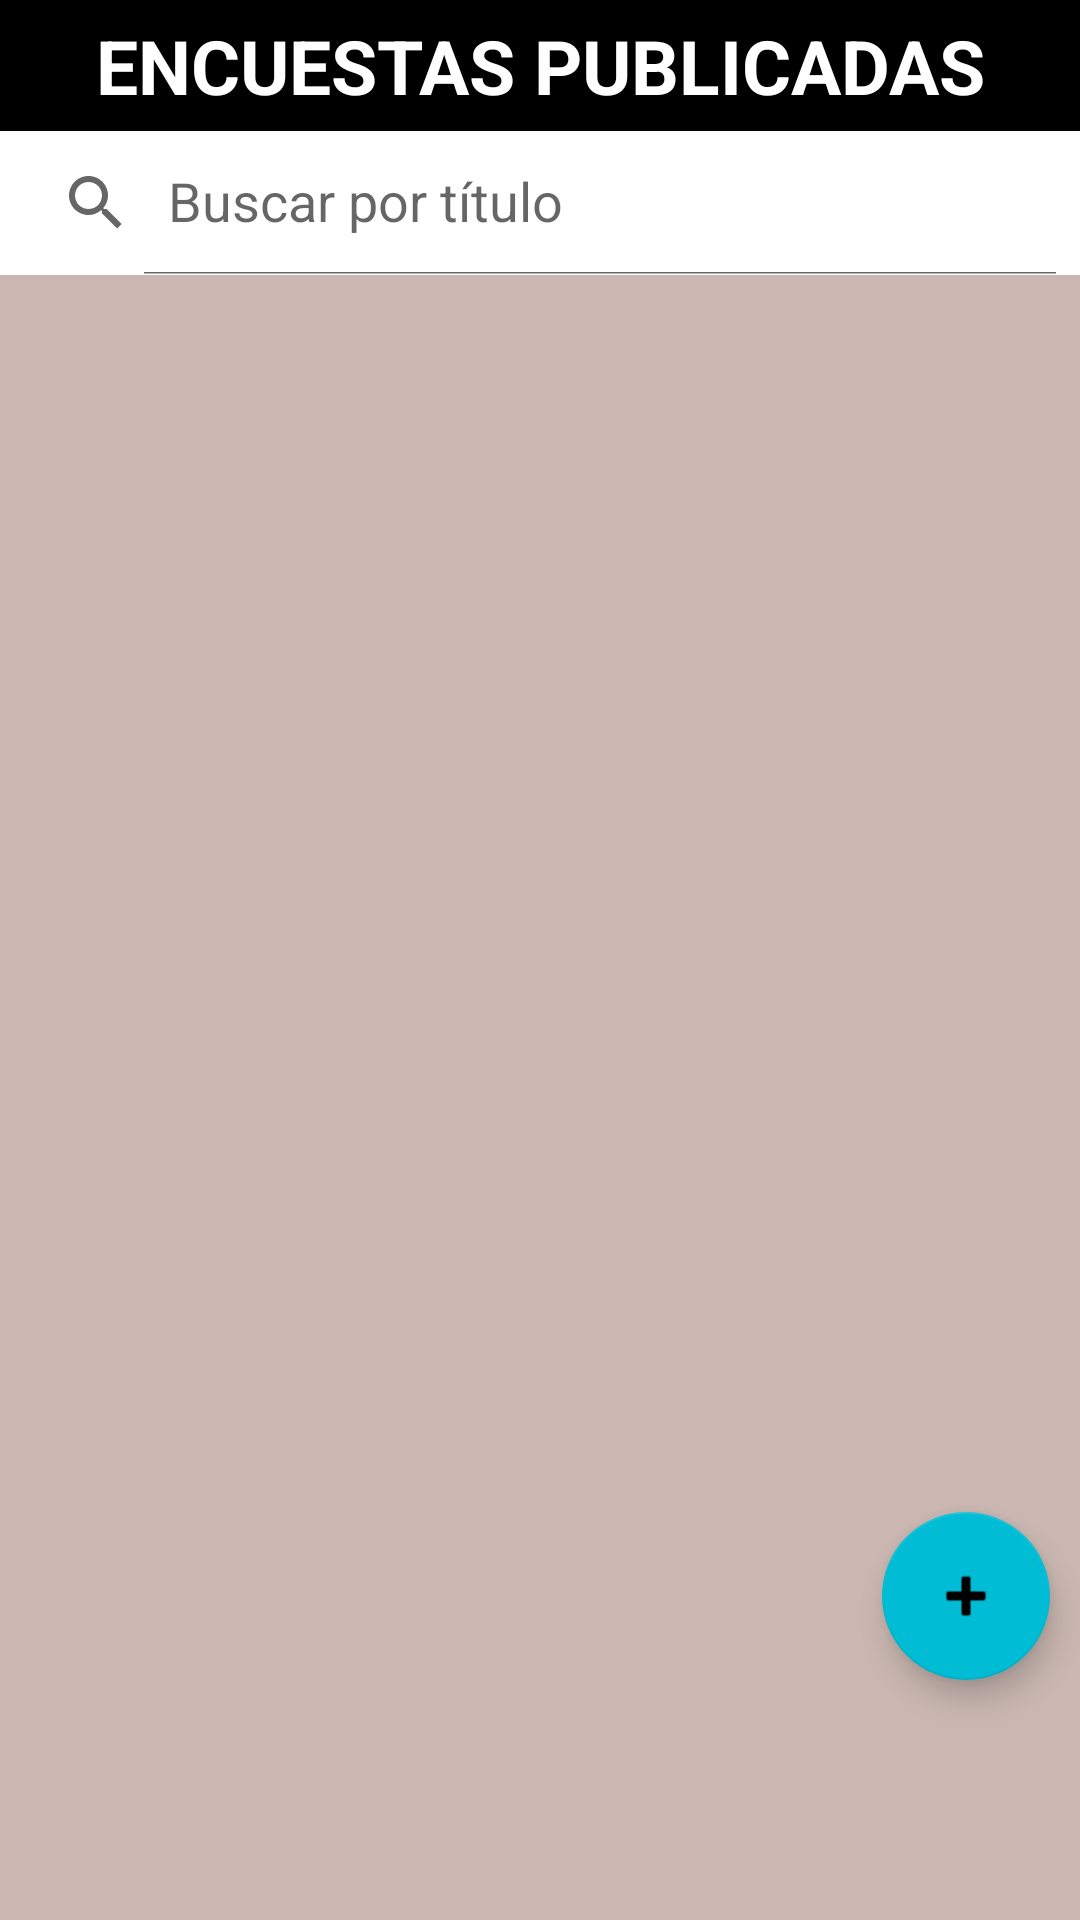

Where icons sit on this 1080 x 1920 app screen, as [x1,y1,x2,y2]:
add: [882,1512,1050,1680]
